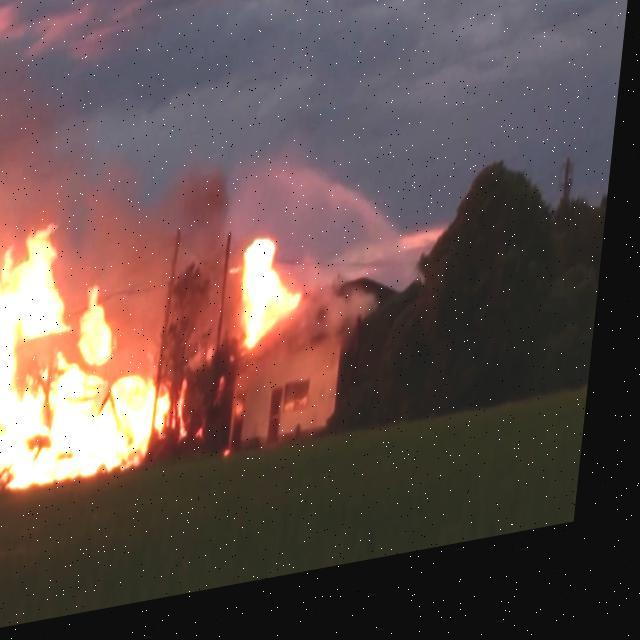Fire: (0, 202, 218, 504), (244, 240, 314, 357)
